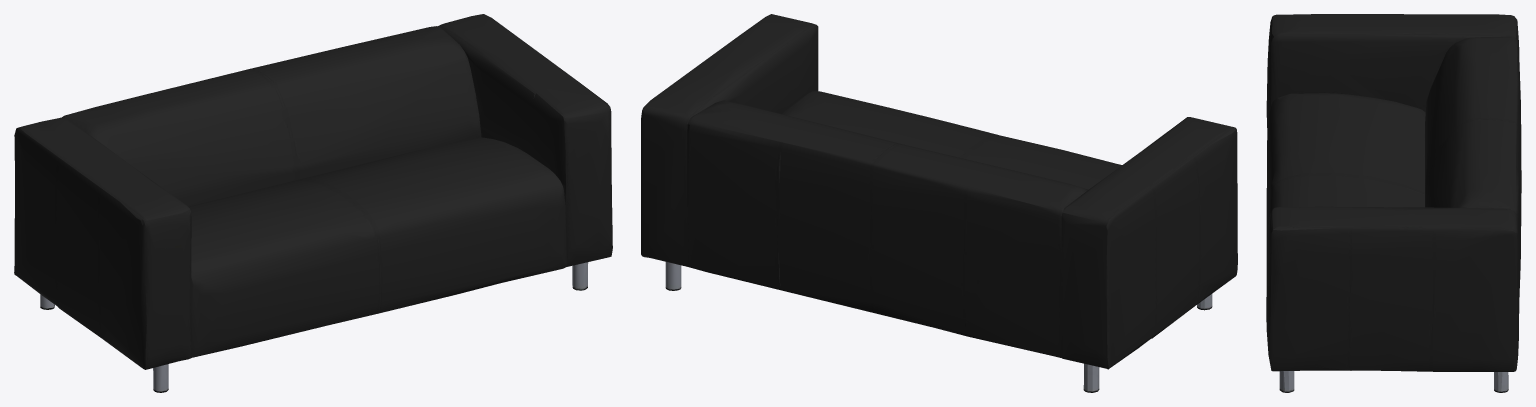
Rendered from KLIPPAN loveseat - Bomstad black.glb.
3 views of the same model, side by side, from view 1: azimuth 30°, elevation 25°; view 2: azimuth 150°, elevation 25°; view 3: azimuth 270°, elevation 25° (orthographic). The views are drawn at different scales.
Visible parts, largest first — view 1: ProcessedMeshNode; view 2: ProcessedMeshNode; view 3: ProcessedMeshNode.
Part boxes in pixels (x1,y1,x2,y2): ProcessedMeshNode: [14, 14, 612, 392]; ProcessedMeshNode: [641, 14, 1237, 392]; ProcessedMeshNode: [1266, 14, 1521, 392].
Size of the model in its own units: 1.8 by 0.668 by 0.8821.
Materials: 1 (1 with a texture image).
